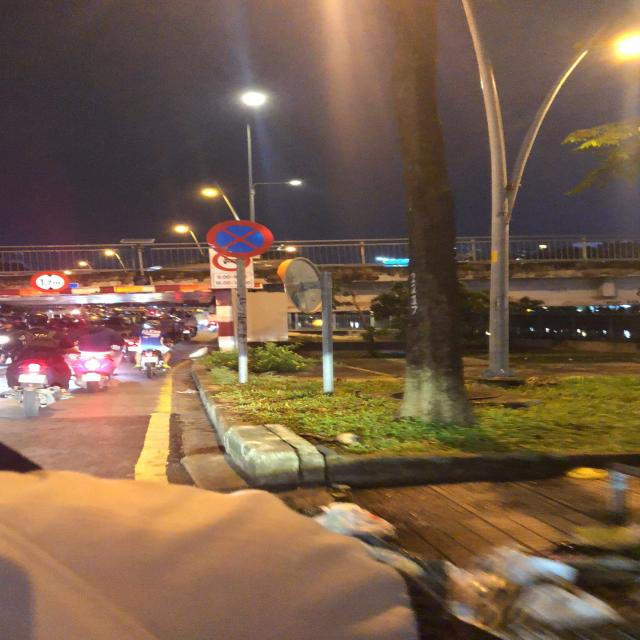Bien bao cam dung xe va do xe: (198, 216, 281, 258)
Bien bao han che chieu cao: (27, 270, 75, 295)
